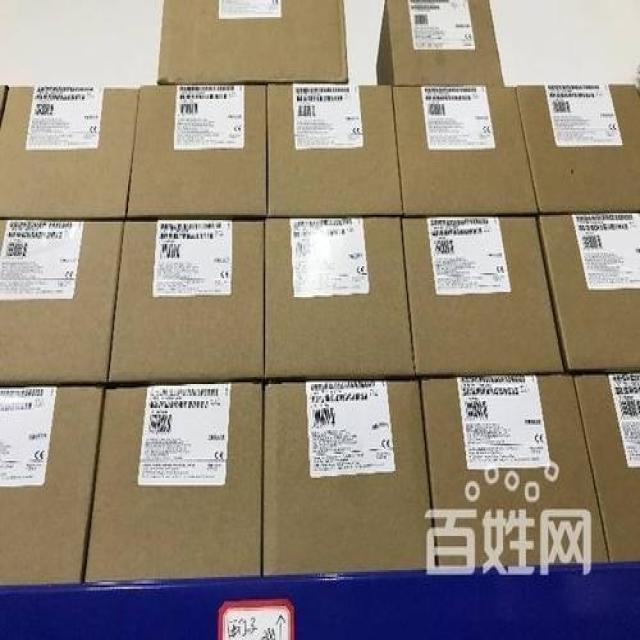box: (420, 372, 606, 571), (84, 384, 264, 583), (262, 380, 433, 576), (107, 220, 264, 384), (402, 218, 564, 376), (264, 216, 415, 378), (0, 218, 123, 387), (0, 386, 104, 585), (391, 84, 538, 214), (127, 85, 267, 219), (266, 83, 404, 216), (516, 83, 639, 214), (159, 1, 348, 85), (538, 213, 639, 370), (573, 374, 639, 564), (374, 1, 503, 87)
